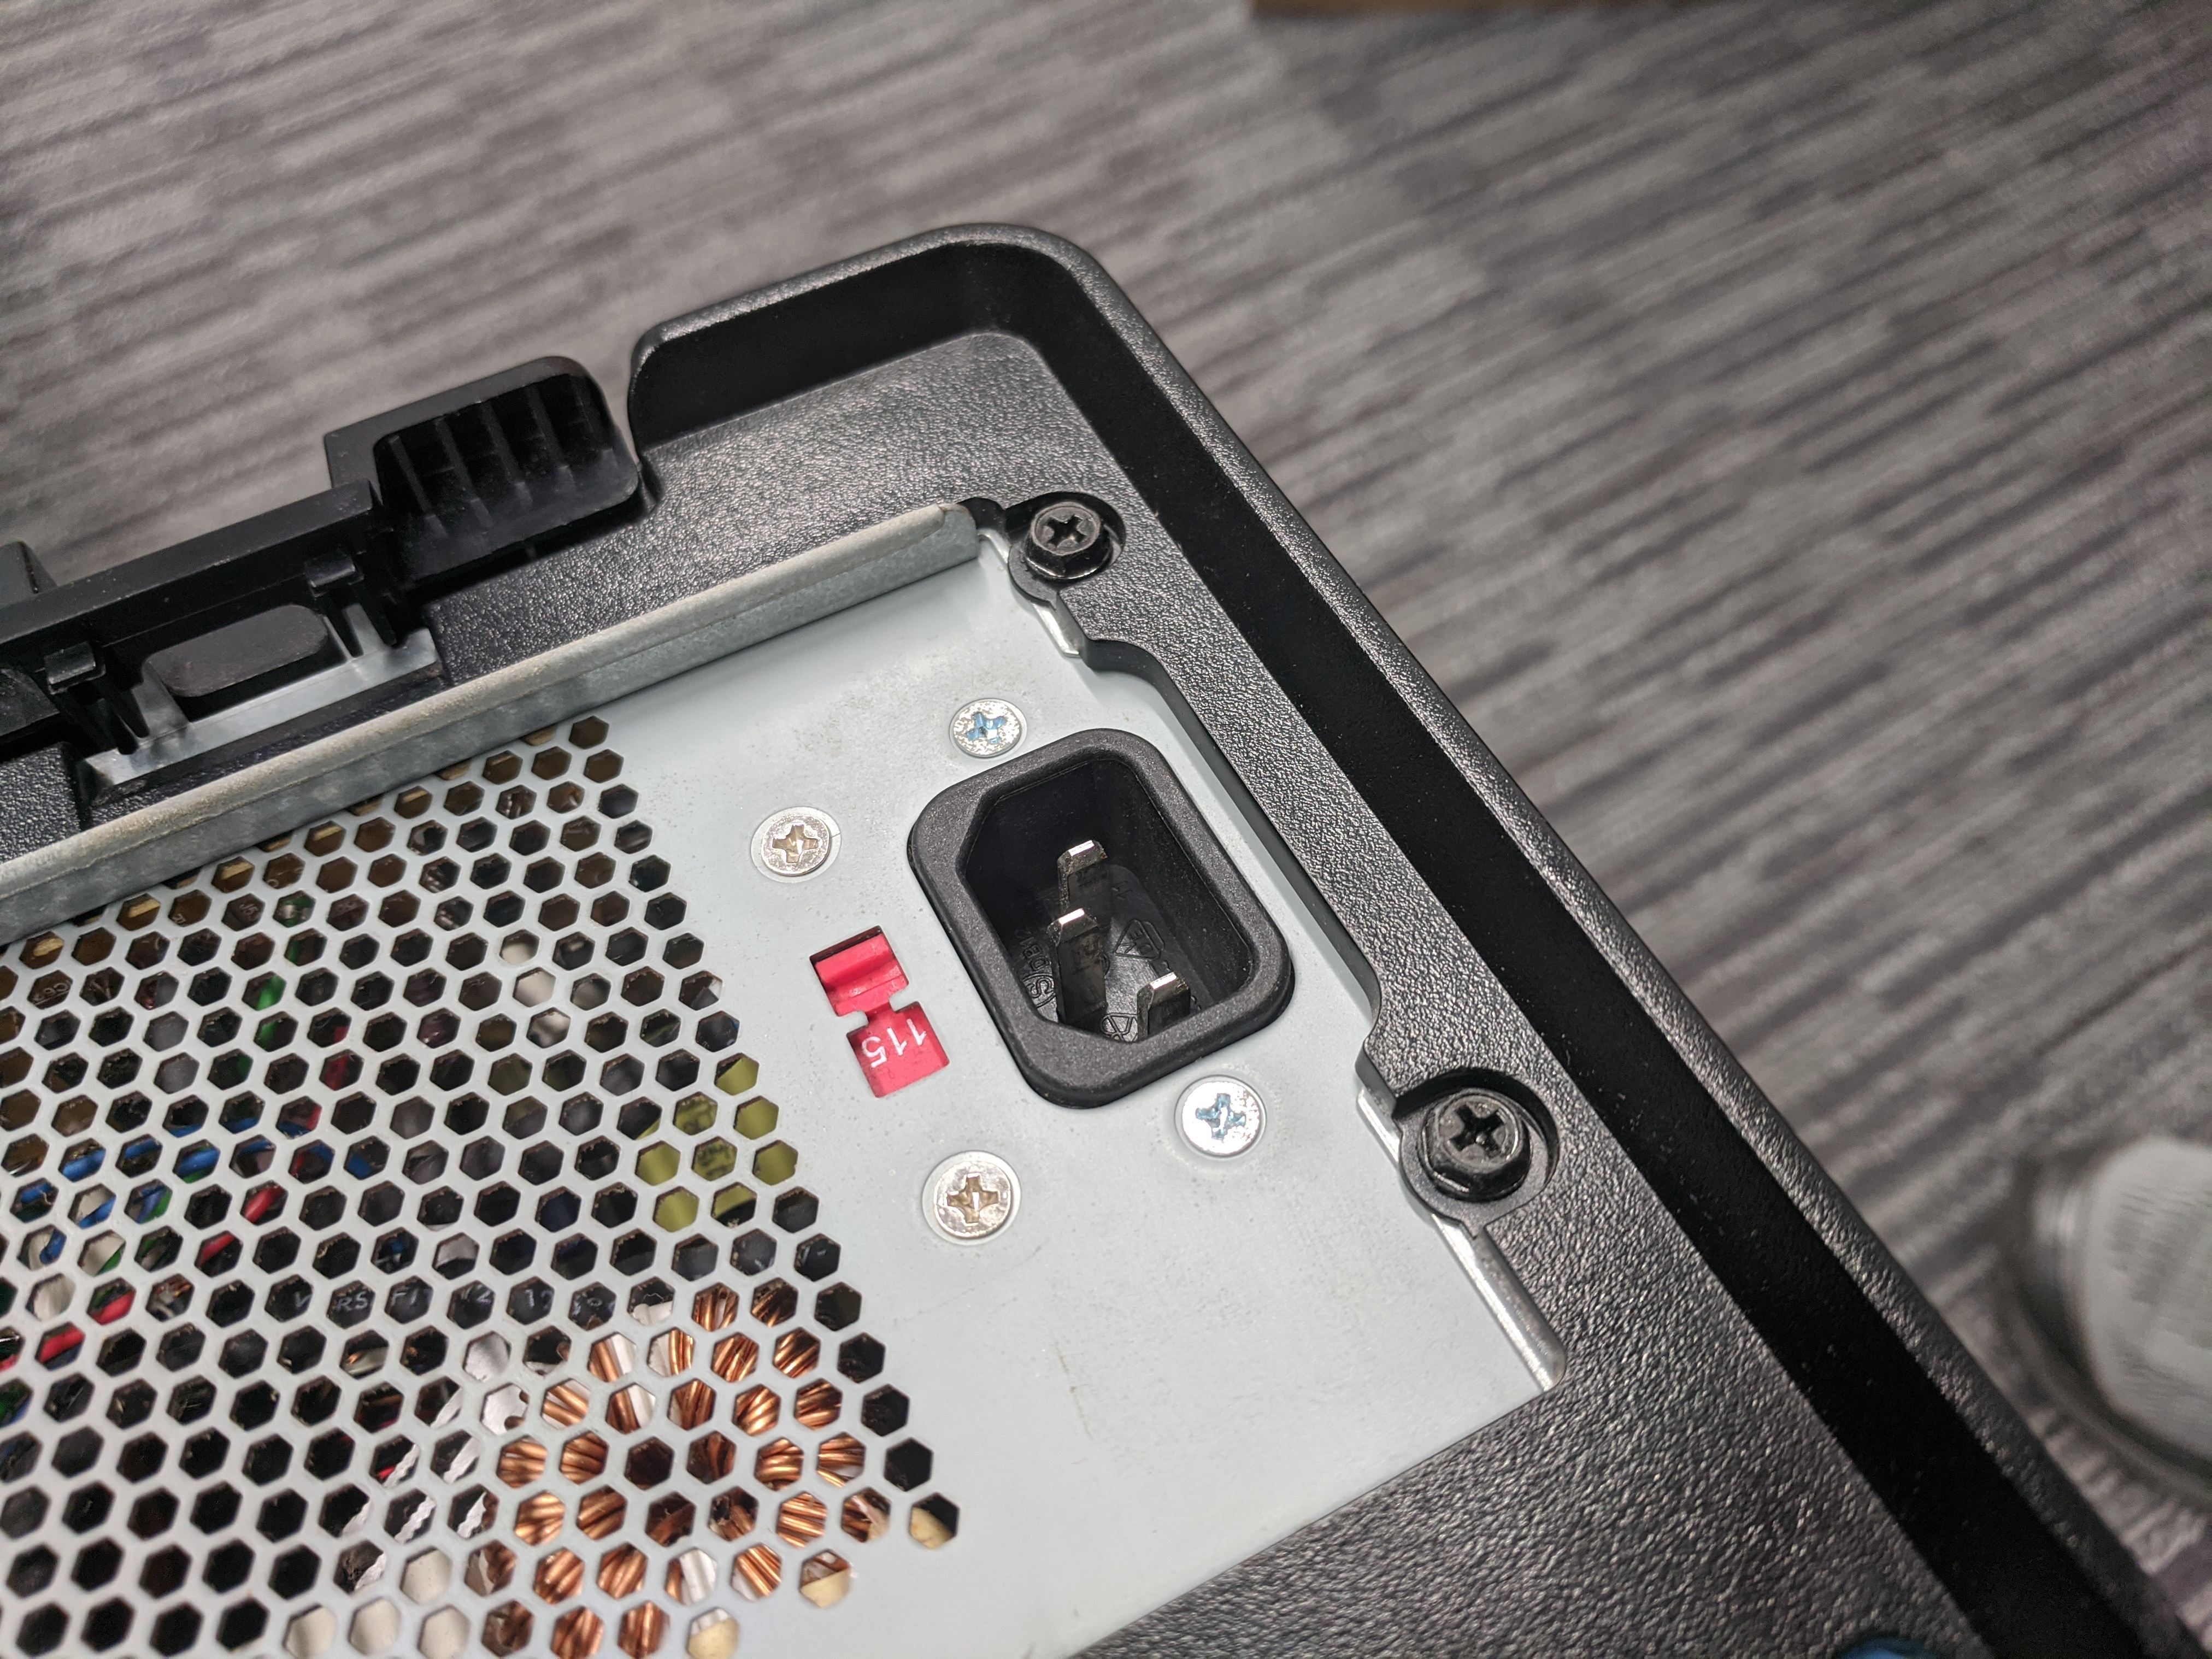cross_recessed_screw: (911, 1145, 1026, 1241), (1423, 1087, 1527, 1173), (1169, 1066, 1271, 1148), (747, 803, 831, 882), (1019, 498, 1108, 561), (942, 695, 1024, 753)
